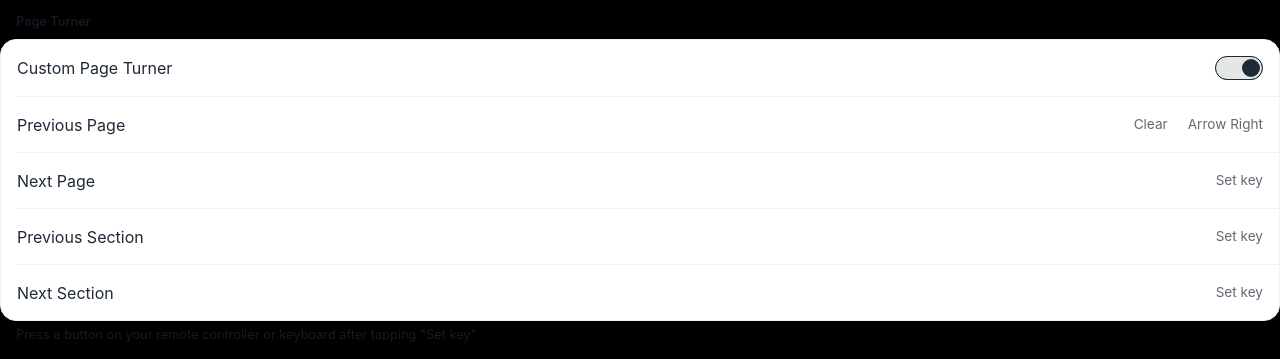
Scenario: PageTurnerSettings key recorder › waits through a modifier keydown and records the completed chord
The image size is (1280, 359).
Click the button with aria-label "Next Page: Set key": (1239, 181) top-left (1216, 166), bottom-right (1263, 195)
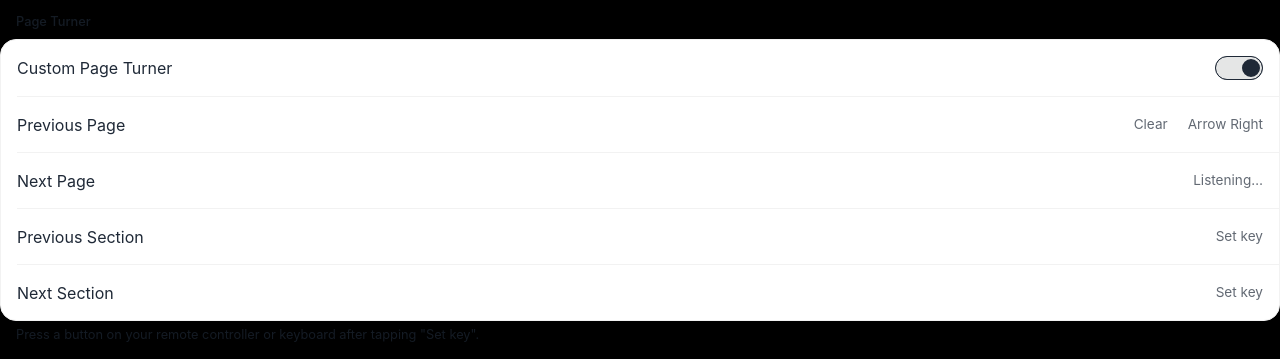
Press Control
Expected: the button with aria-label "Next Page: Listening…" is shown, top-left (1193, 166), bottom-right (1263, 195)
Press ArrowRight
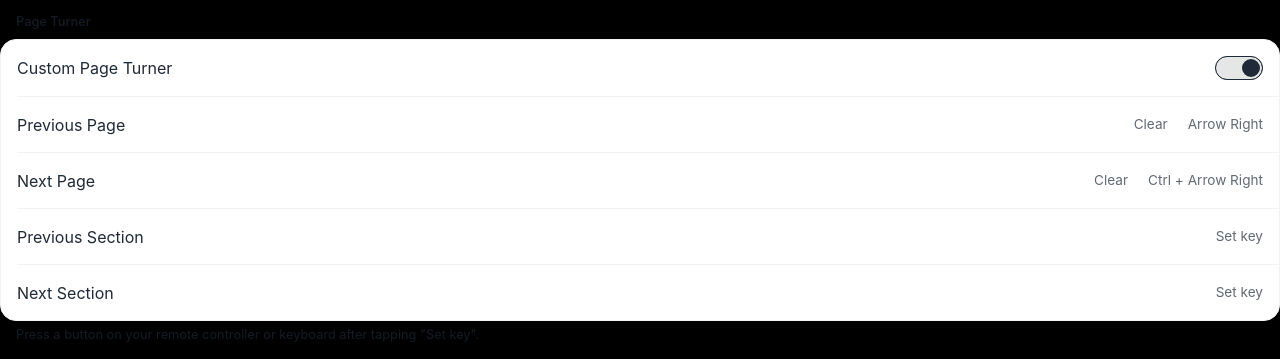
Expected: the button "Ctrl + Arrow Right" is shown, top-left (1148, 166), bottom-right (1263, 195)
